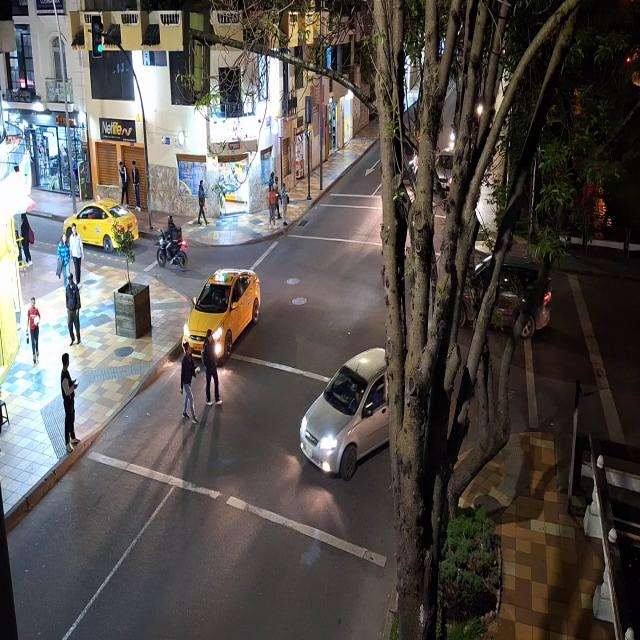MOTORCYCLE: (156, 239, 187, 274)
SED: (301, 347, 384, 468), (183, 271, 252, 348), (66, 204, 139, 245)
